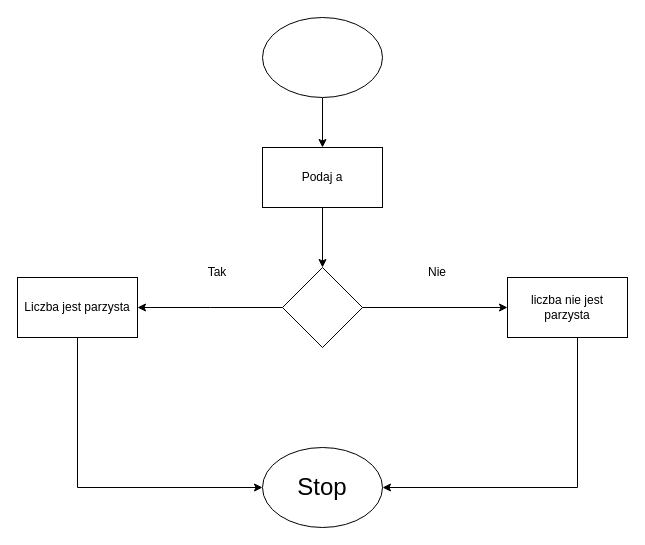
Some shapes in this 645 by 545 pixel diagram are drawn without their labels. The box of each missing label's shape, as (x1, y1, x2, y2) in pixels:
a mod 2=0: (282, 266, 362, 348)
Start: (262, 16, 382, 98)
